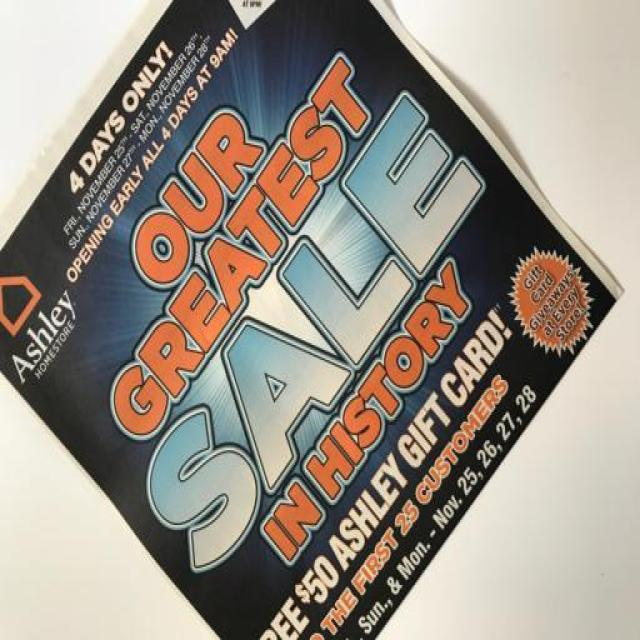paper: (0, 0, 630, 638)
